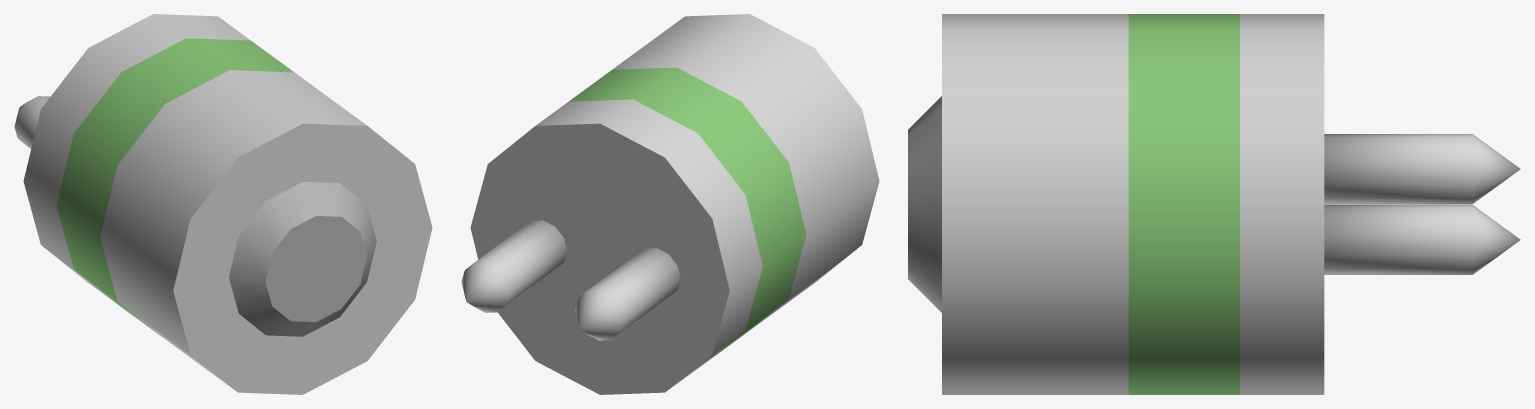
The model's file is reactor part.fbx.
The picture shows the model from 3 angles, left to right: view 1: azimuth 30°, elevation 25°; view 2: azimuth 150°, elevation 25°; view 3: azimuth 270°, elevation 25°; orthographic projection. The views are drawn at different scales.
Parts seen in each view (by area): view 1: reactor part; view 2: reactor part; view 3: reactor part.
Part boxes in pixels (box(x1,y1,x2,y2)): reactor part: box(14, 14, 432, 394); reactor part: box(461, 14, 879, 394); reactor part: box(908, 14, 1520, 394).
Bounding box in the file's own units: 27.4 × 27.4 × 43.91.
